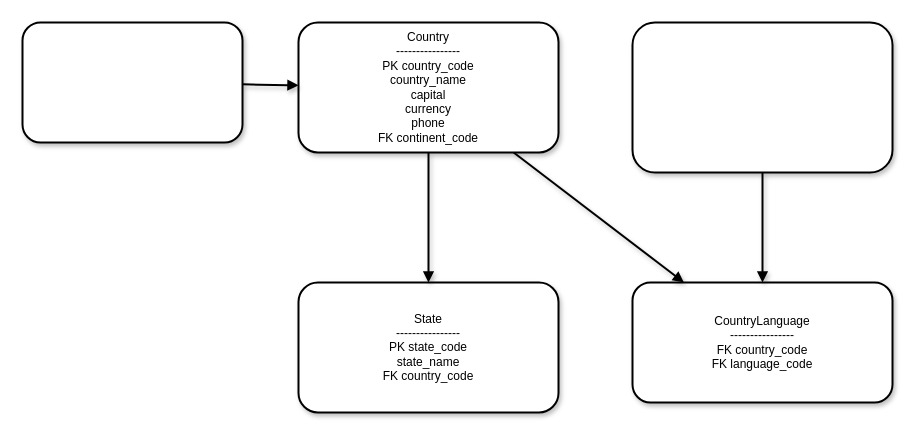
The diagram is 916 pixels wide and 437 high, and some of its shapes have lost their labels. The shapes that lost their labels are listed below. From the top down, each one's centre as x and y in pixels, then its label:
At (x=133, y=83): "Continent ---------------- PK continent_code continent_name".
At (x=763, y=98): "Language ---------------- PK language_code language_name native_name rtl".
